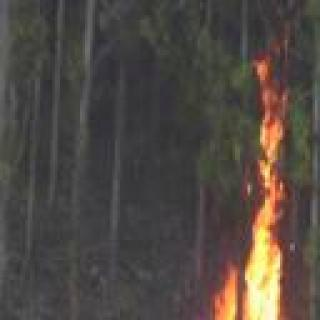fire: (171, 83, 319, 320)
